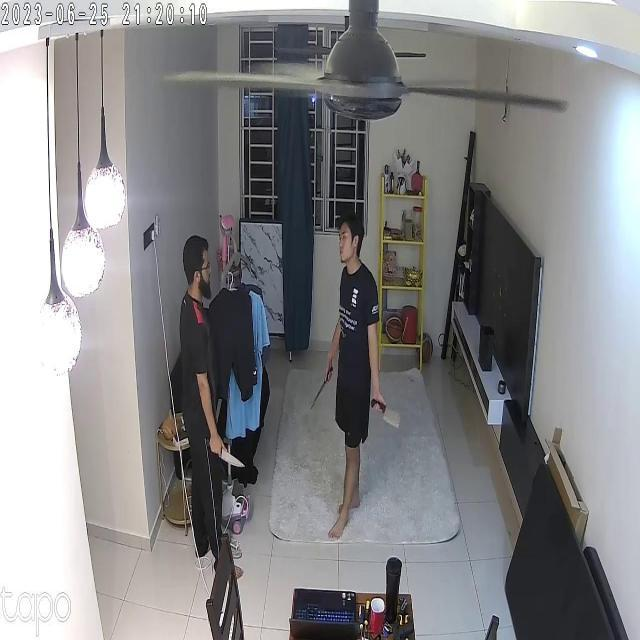Knife: (300, 365, 337, 412), (370, 397, 413, 435), (211, 441, 252, 478)
